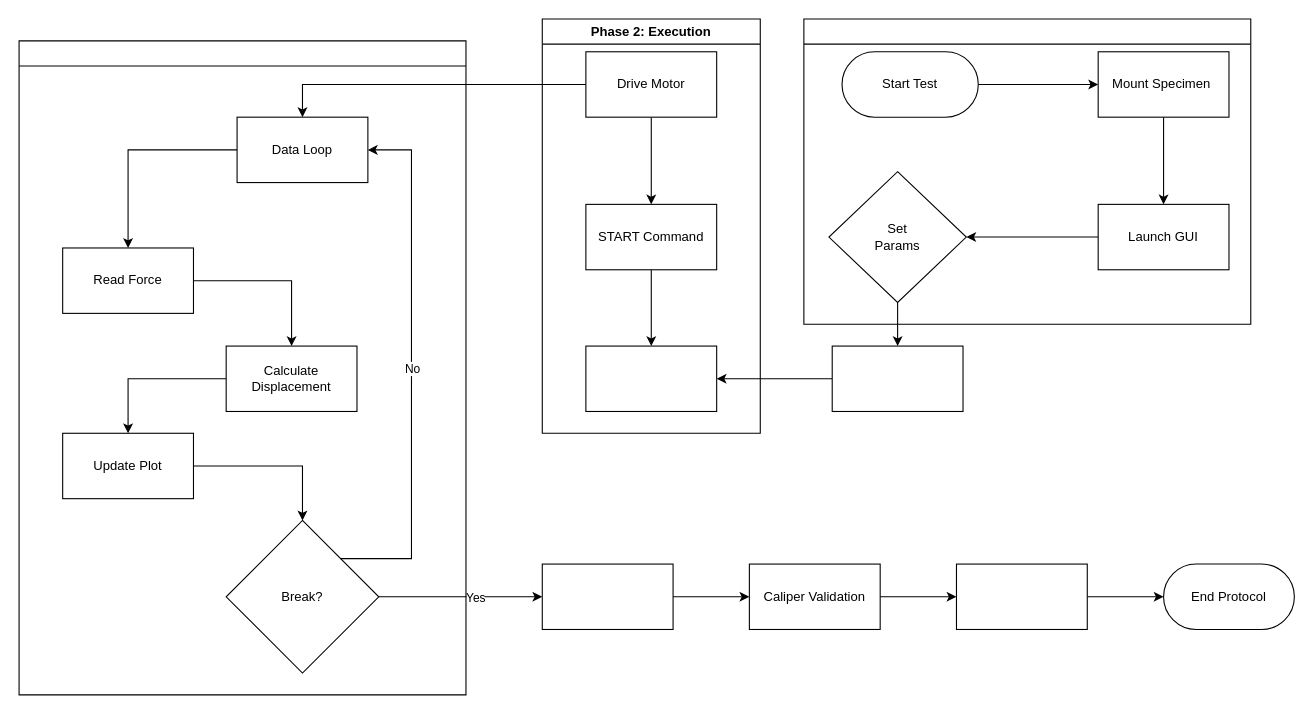
The diagram is 1313 pixels wide and 714 high, and some of its shapes have lost their labels. Here are the shapes that lost their labels. From the top down, the centre of each, then its label:
the point at 1027,171: Phase 1: Setup
the point at 242,367: Phase 3: Data Acquisition & Results
the point at 651,378: Initiate Test
the point at 897,378: Tare & Zero
the point at 607,596: Stop Motor
the point at 1021,596: Export Results
